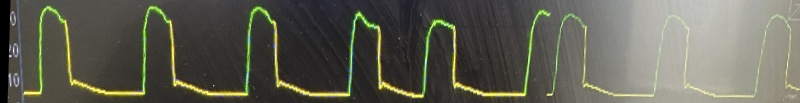normal_pressure: (25, 0, 546, 103), (583, 1, 800, 103)
